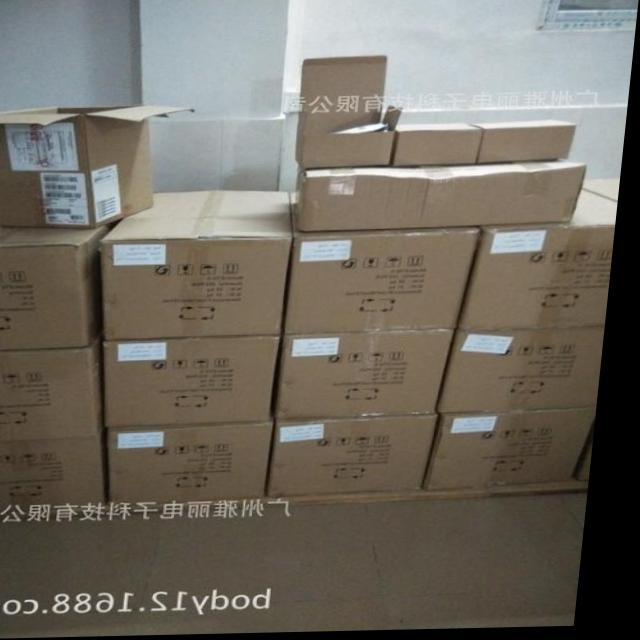box: (104, 191, 299, 341), (0, 105, 198, 228), (464, 191, 622, 332), (291, 228, 487, 336), (298, 161, 591, 232), (106, 336, 291, 428), (280, 332, 464, 422), (0, 218, 116, 351), (444, 329, 612, 416), (433, 409, 606, 493), (278, 415, 449, 498), (115, 423, 282, 506), (297, 57, 404, 169), (0, 341, 113, 441), (0, 428, 118, 513), (472, 121, 580, 165), (394, 125, 486, 168), (583, 422, 605, 484), (588, 180, 624, 204)
